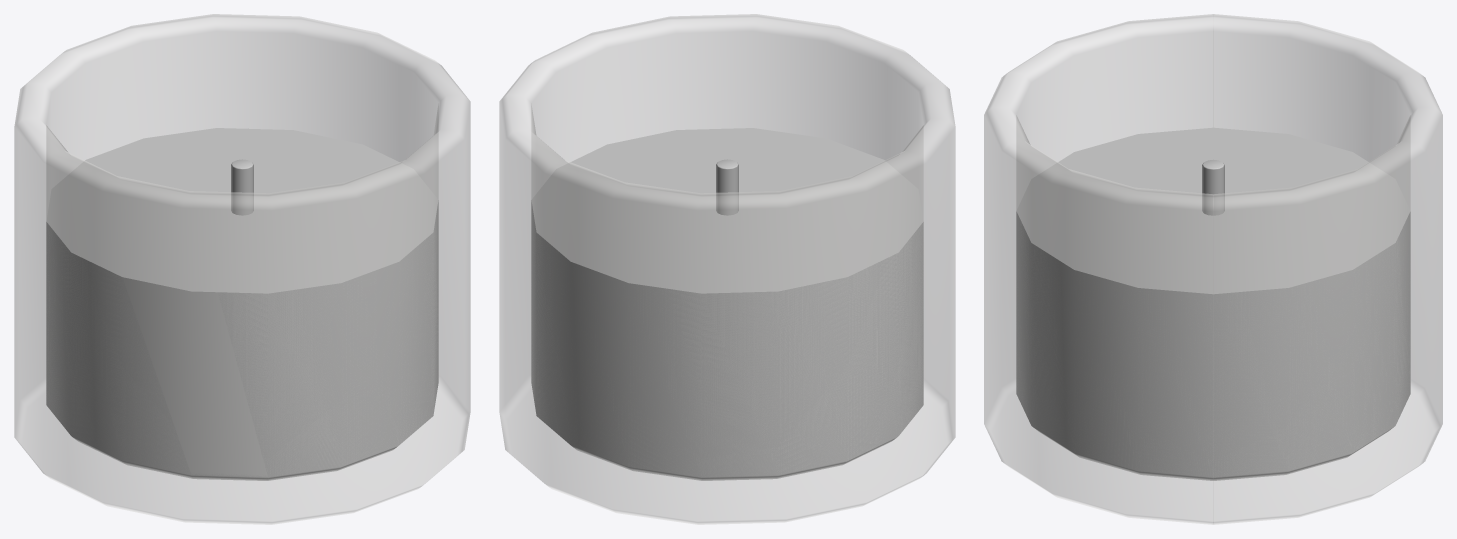
The model's file is Candle_7.fbx.
3 views of the same model, side by side, from view 1: azimuth 30°, elevation 25°; view 2: azimuth 150°, elevation 25°; view 3: azimuth 270°, elevation 25° (orthographic).
Parts seen in each view (by area): view 1: Candle_7; view 2: Candle_7; view 3: Candle_7.
Part boxes in pixels (left/top/right/bottom): Candle_7: left=14, top=14, right=470, bottom=524; Candle_7: left=499, top=14, right=955, bottom=524; Candle_7: left=984, top=14, right=1442, bottom=524.
Bounding box in the file's own units: 18.83 × 14.67 × 18.83.
